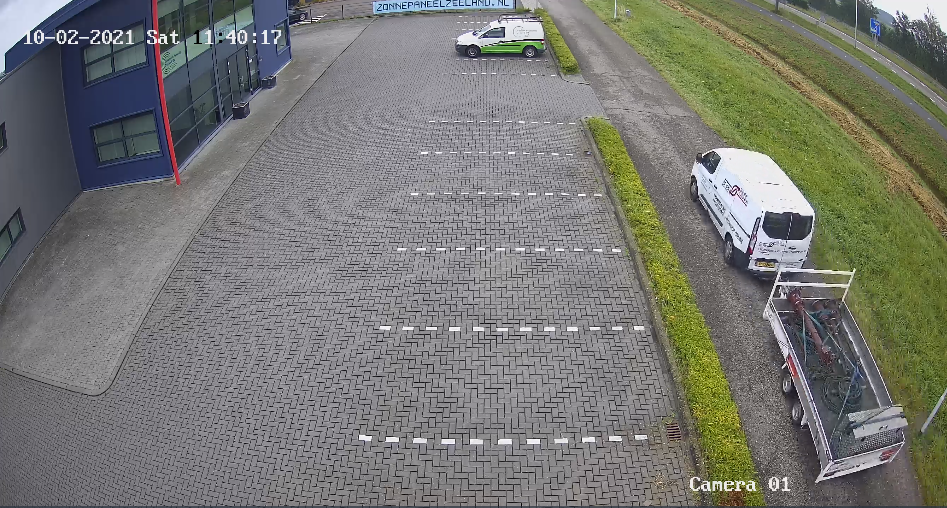werkbus: (677, 133, 817, 280), (439, 10, 553, 64)
